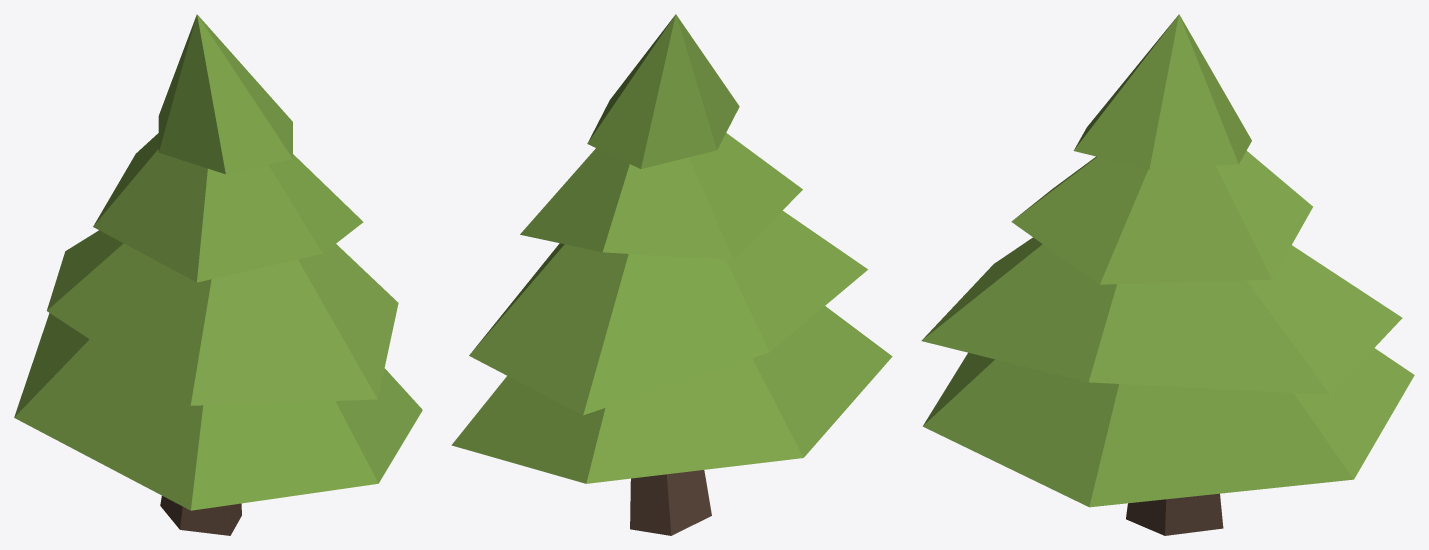
The model's file is TB_Env_Tree_B.FBX.
3 views of the same model, side by side, from view 1: azimuth 30°, elevation 25°; view 2: azimuth 150°, elevation 25°; view 3: azimuth 270°, elevation 25° (orthographic).
Parts seen in each view (by area): view 1: TB_Env_Tree_B; view 2: TB_Env_Tree_B; view 3: TB_Env_Tree_B.
Boxes of the visible parts, x1,y1,x2,y2 form: TB_Env_Tree_B: (14,14,422,535); TB_Env_Tree_B: (451,14,892,535); TB_Env_Tree_B: (921,14,1414,535).
Bounding box in the file's own units: 4.24 × 6.09 × 5.41.
